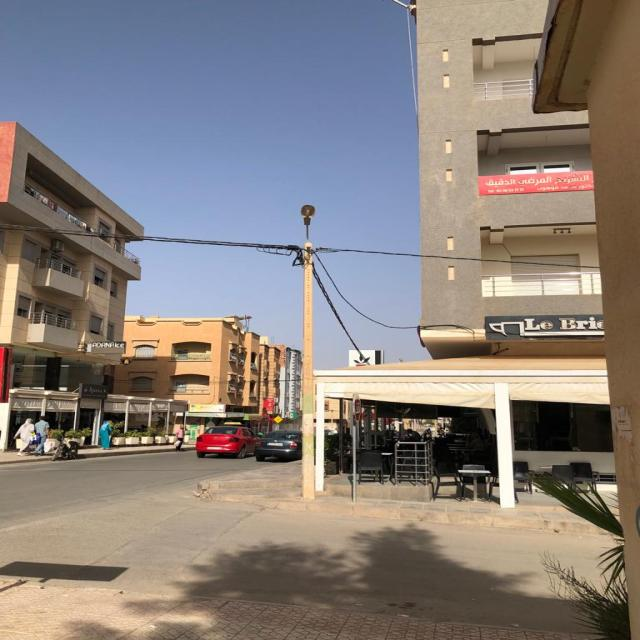Car: (195, 427, 260, 459), (255, 431, 301, 462)
Electric pole: (300, 204, 316, 501)
